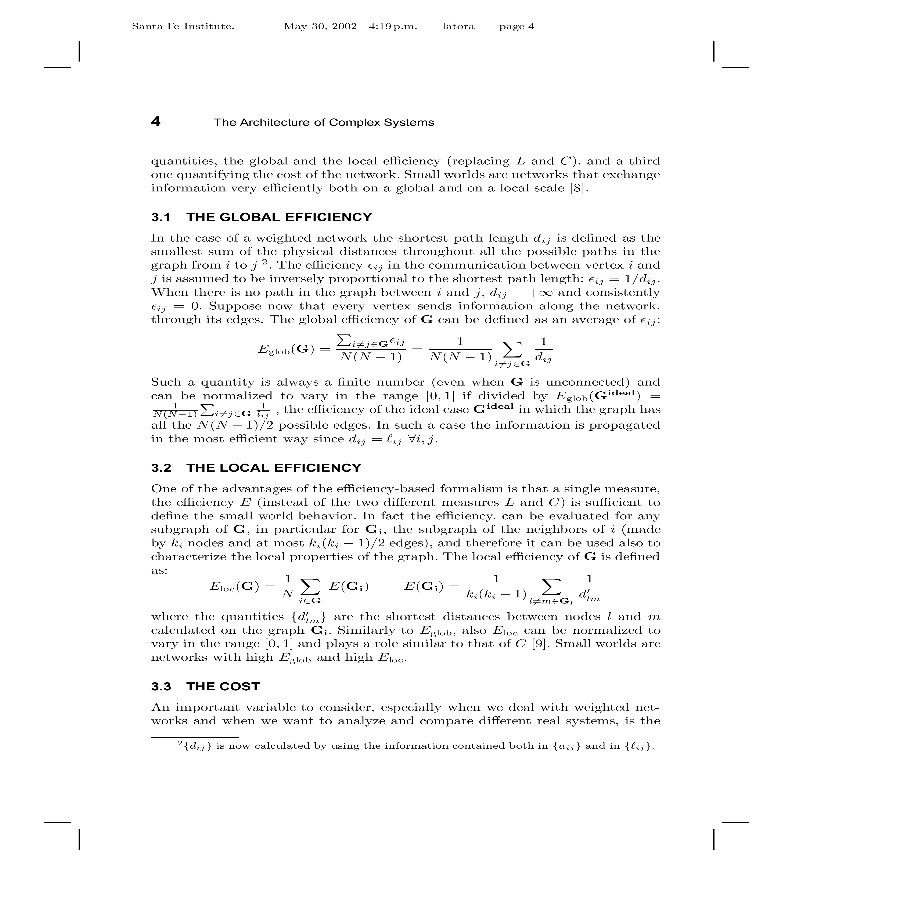eq: (256, 330, 565, 368), (402, 569, 604, 606), (209, 572, 378, 606)
